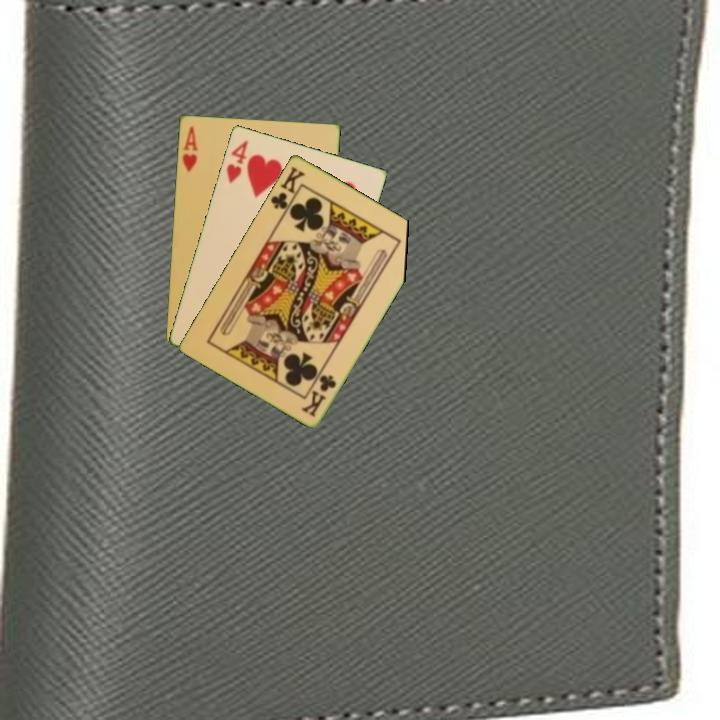4h: (223, 136, 251, 185)
Ah: (179, 122, 200, 175)
Kc: (267, 163, 308, 218), (298, 371, 339, 420)
